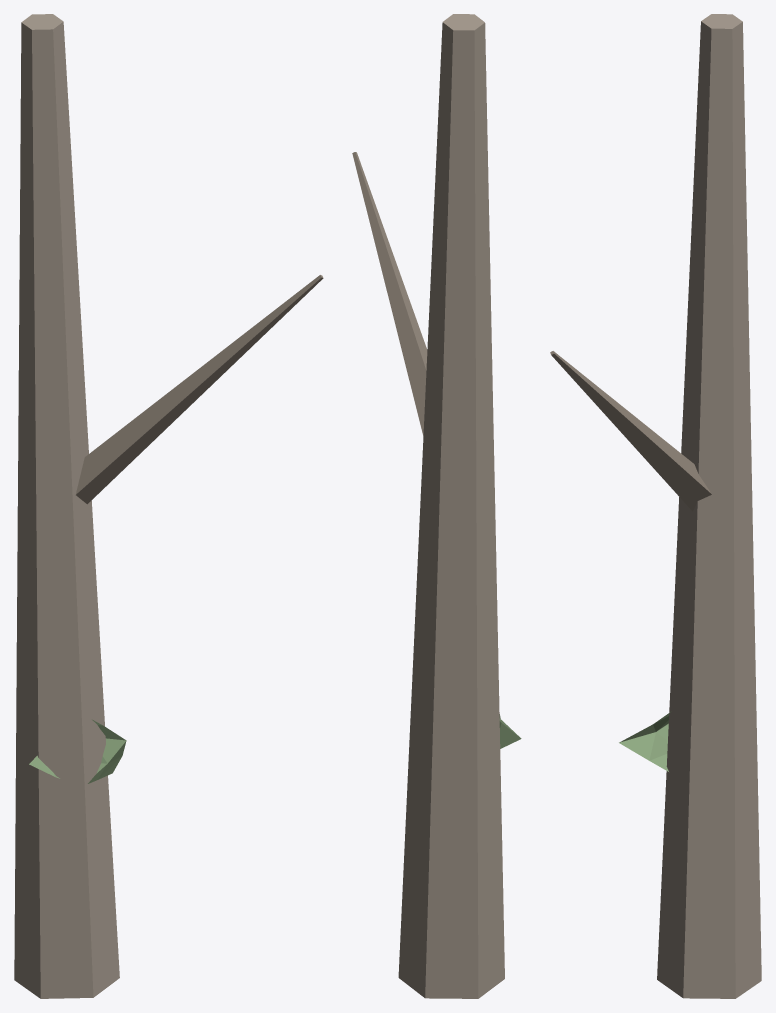
File: snag_v17.glb
3 renders of one model, left to right at view 1: azimuth 30°, elevation 25°; view 2: azimuth 150°, elevation 25°; view 3: azimuth 270°, elevation 25°, orthographic.
Visible parts, largest first — view 1: lod0; view 2: lod0; view 3: lod0.
Part boxes in pixels (x1=…): lod0: x1=14, y1=14, x2=323, y2=998; lod0: x1=352, y1=14, x2=521, y2=998; lod0: x1=550, y1=14, x2=761, y2=998.
Size of what is drawn, in the model's own units: 0.8576 by 3.41 by 0.6864.
